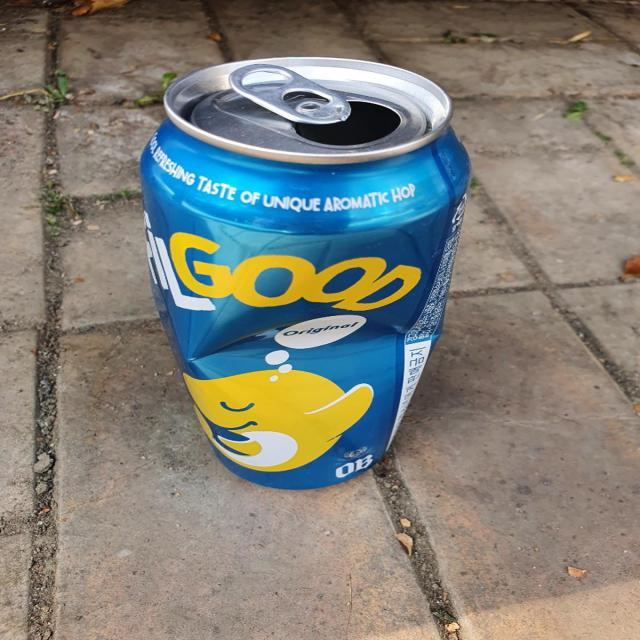can: (140, 56, 471, 490)
